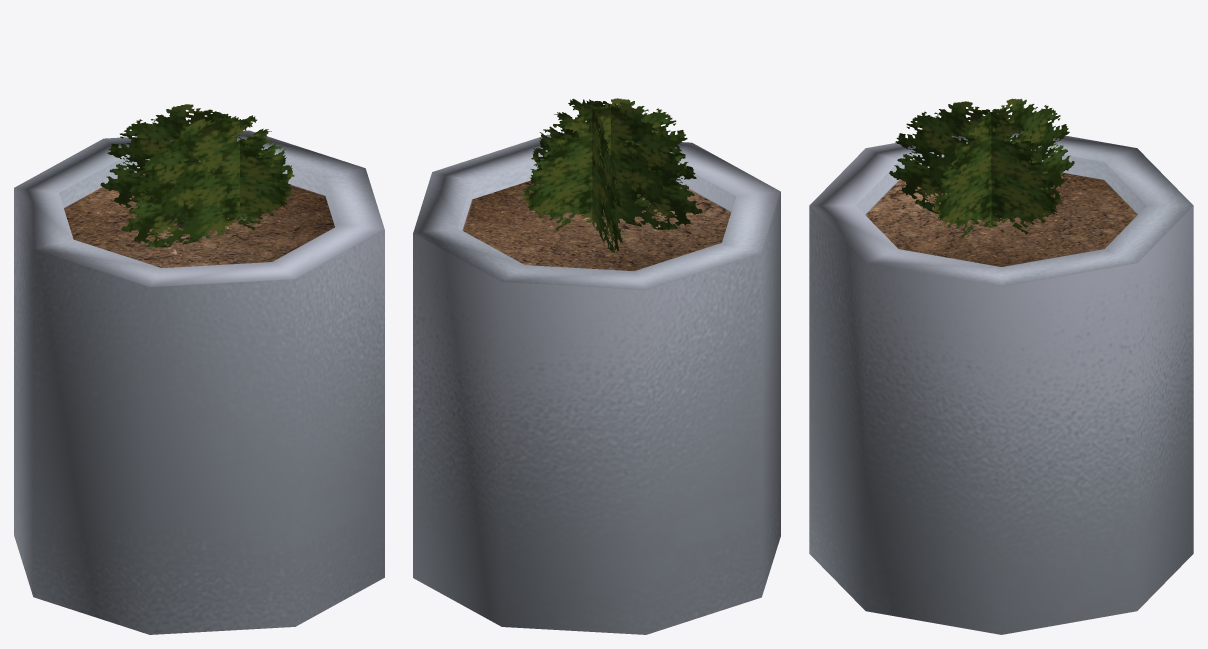
Rendered from DecorativePlant2.fbx.
3 renders of one model, left to right at view 1: azimuth 30°, elevation 25°; view 2: azimuth 150°, elevation 25°; view 3: azimuth 270°, elevation 25°, orthographic.
Parts seen in each view (by area): view 1: DecorativeTree2; view 2: DecorativeTree2; view 3: DecorativeTree2.
Boxes of the visible parts, x1,y1,x2,y2 form: DecorativeTree2: (14, 104, 384, 634); DecorativeTree2: (413, 98, 780, 634); DecorativeTree2: (809, 98, 1193, 634).
Size of the model in its own units: 40 by 55.02 by 40.
2 materials, 2 textured.
